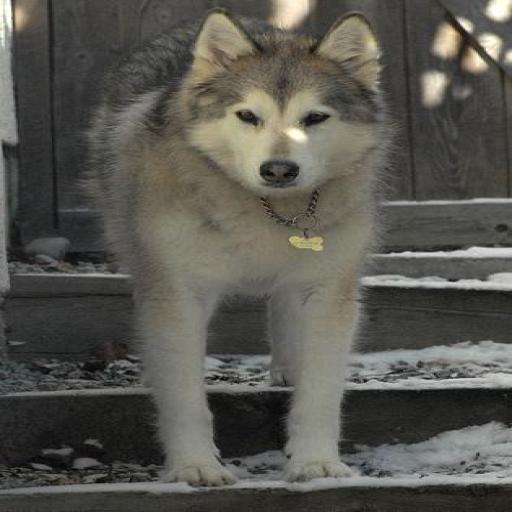dog_face: (165, 8, 388, 194)
